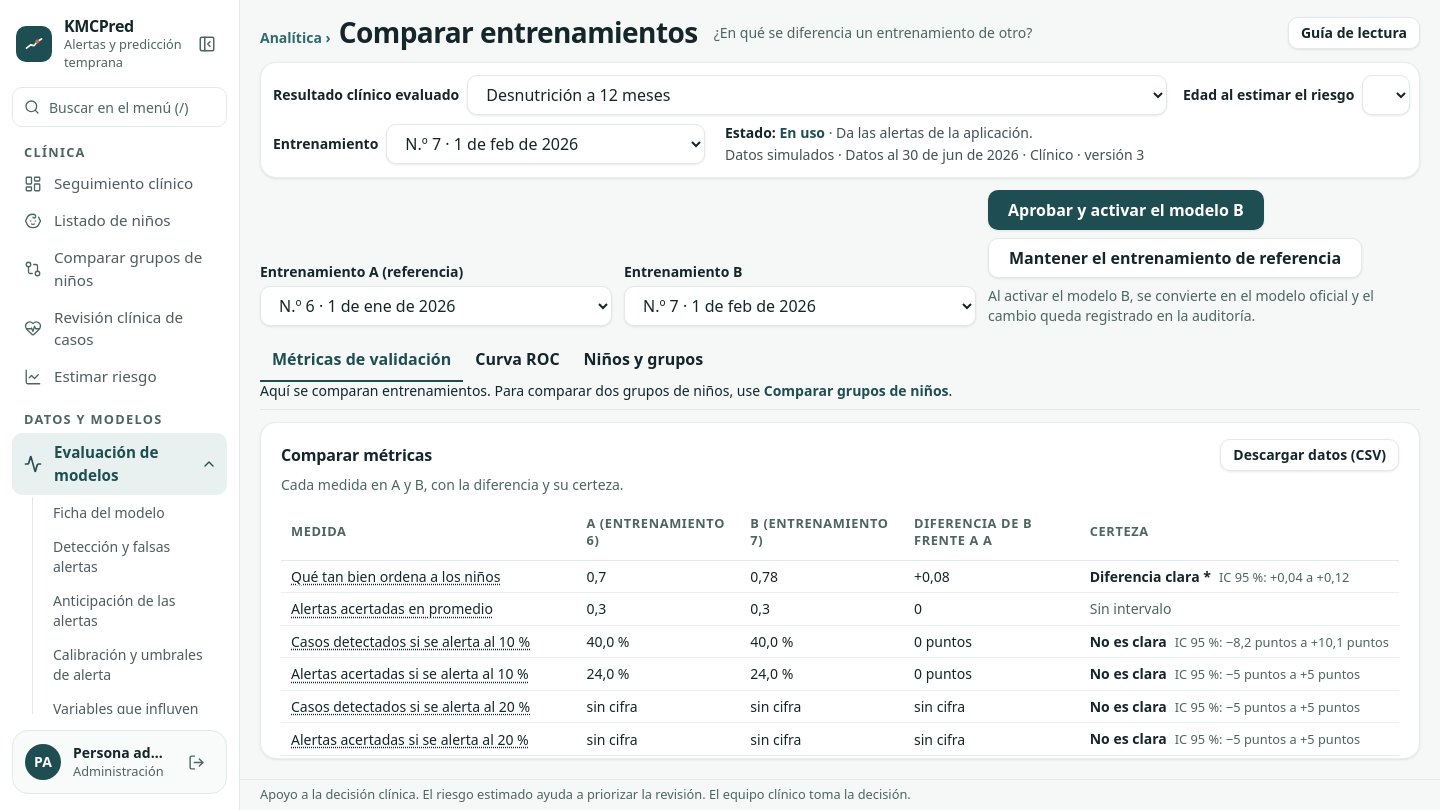
Scenario: comparar entrenamientos: intervalos y Aprobar B › un error de la aprobación (ya hay una pendiente) se muestra
Click the button "Aprobar y activar el modelo B": {"x": 1126, "y": 210} [988, 190, 1264, 230]
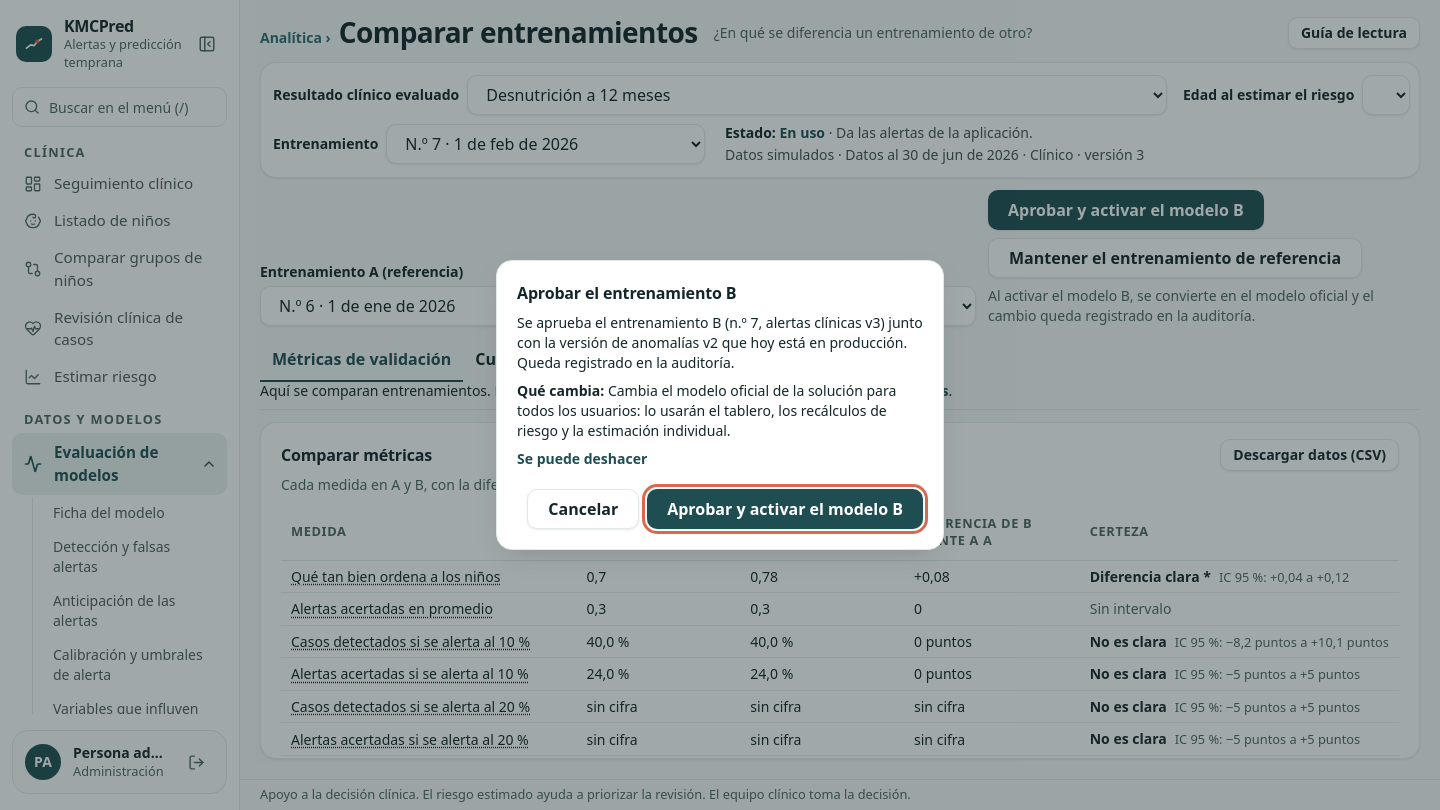
Click the button "Aprobar y activar el modelo B": {"x": 785, "y": 509} [647, 489, 923, 529]
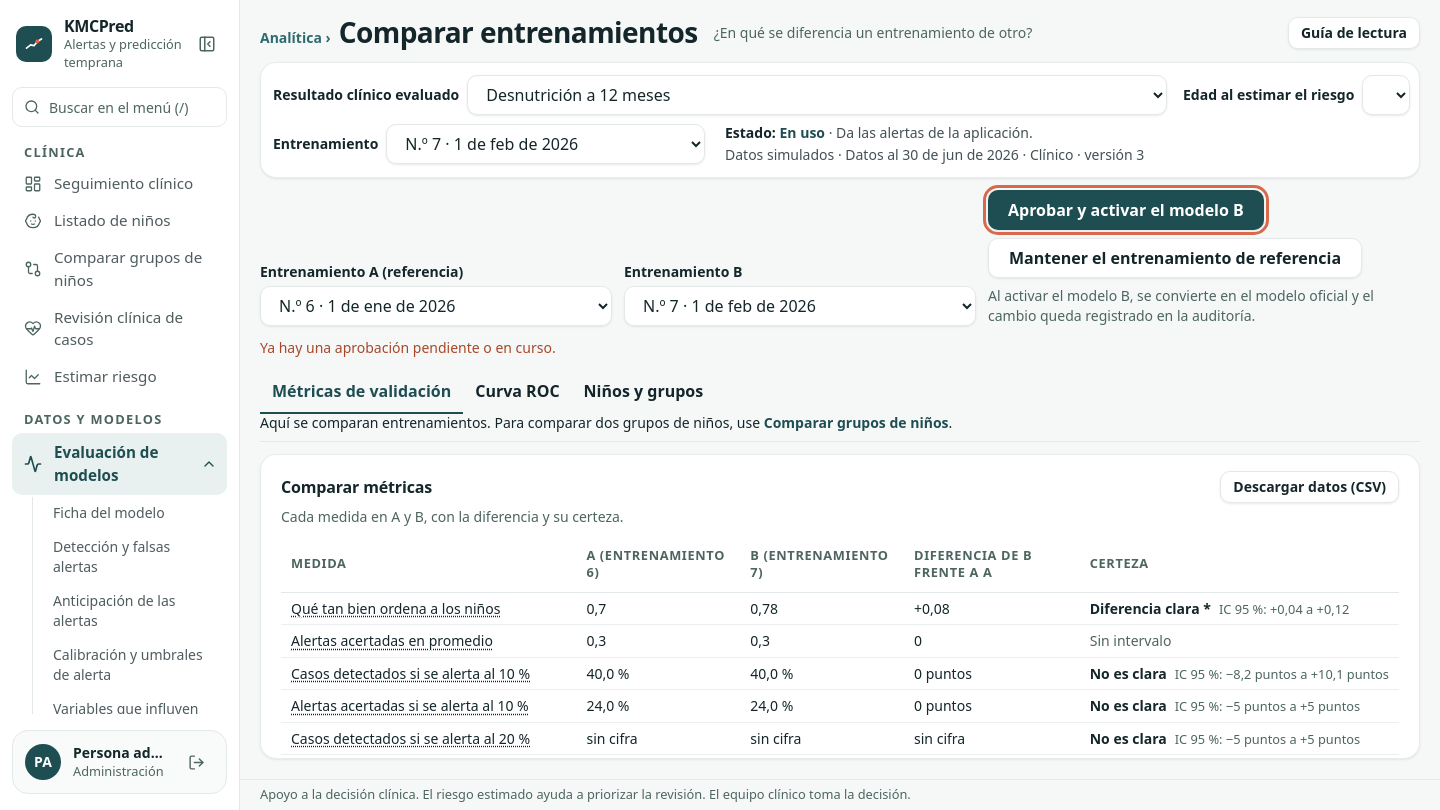
Result: the message reads "Ya hay una aprobación pendiente o en curso." at [260, 338, 556, 357]
